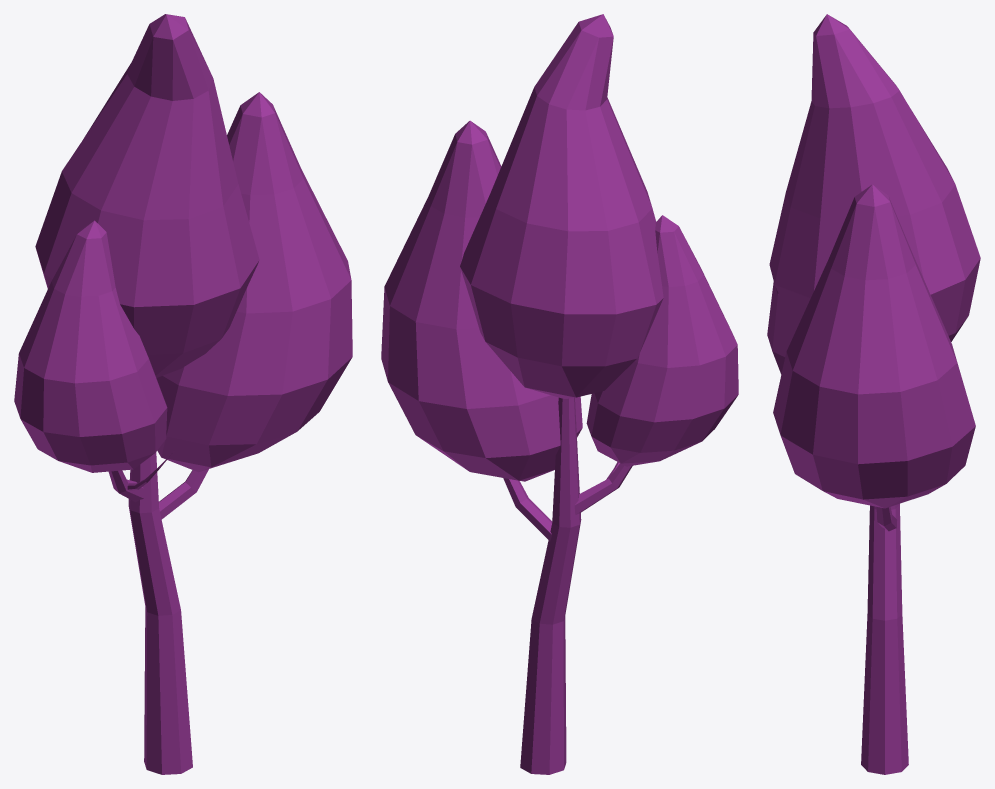
The model's file is Tree_Type_A_2.fbx.
3 renders of one model, left to right at view 1: azimuth 30°, elevation 25°; view 2: azimuth 150°, elevation 25°; view 3: azimuth 270°, elevation 25°, orthographic. The views are drawn at different scales.
Parts seen in each view (by area): view 1: Tree_Type_A_2; view 2: Tree_Type_A_2; view 3: Tree_Type_A_2.
Boxes of the visible parts, x1=… form: Tree_Type_A_2: x1=14, y1=14, x2=352, y2=774; Tree_Type_A_2: x1=381, y1=14, x2=738, y2=774; Tree_Type_A_2: x1=767, y1=14, x2=980, y2=774.
Bounding box in the file's own units: 358 × 795 × 209.
